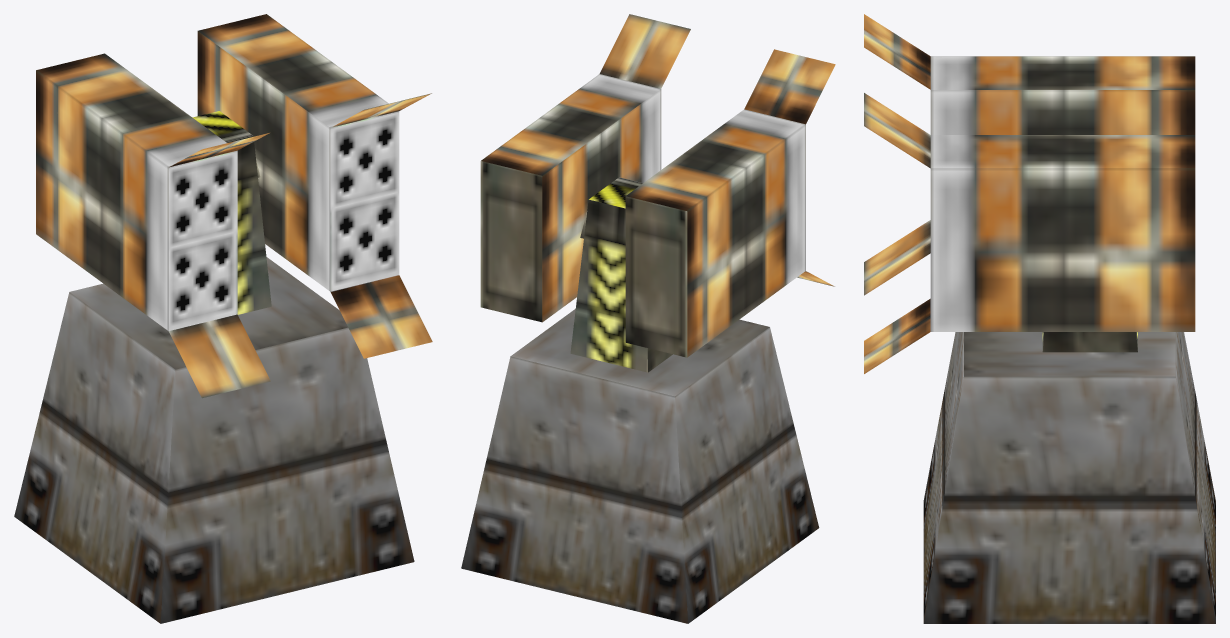
Rendered from lrmturret.glb.
3 renders of one model, left to right at view 1: azimuth 30°, elevation 25°; view 2: azimuth 150°, elevation 25°; view 3: azimuth 270°, elevation 25°, orthographic. The views are drawn at different scales.
Parts seen in each view (by area): view 1: Turret, Base; view 2: Turret, Base; view 3: Turret, Base.
Boxes of the visible parts, x1,y1,x2,y2 form: Turret: [36, 14, 432, 398]; Base: [14, 257, 414, 623]; Turret: [480, 14, 835, 372]; Base: [461, 309, 819, 623]; Turret: [864, 14, 1195, 373]; Base: [923, 332, 1215, 623].
Bounding box in the file's own units: 4.6 × 8.55 × 5.54.
2 materials, 2 textured.
